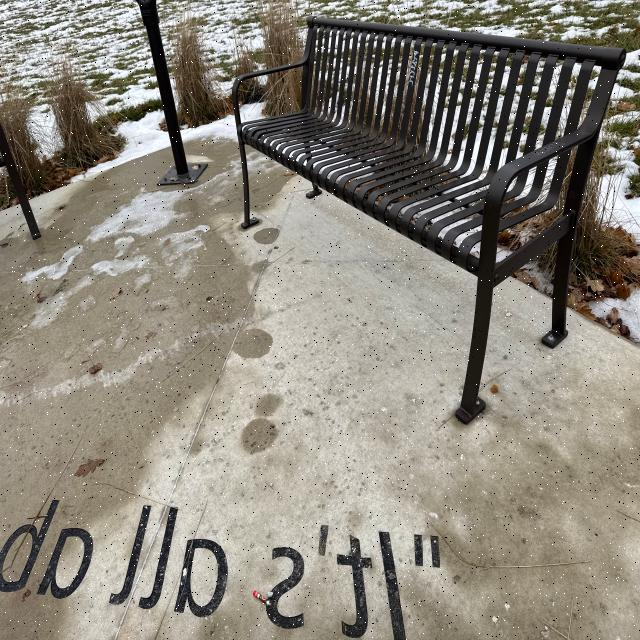Bench: (215, 29, 629, 406)
